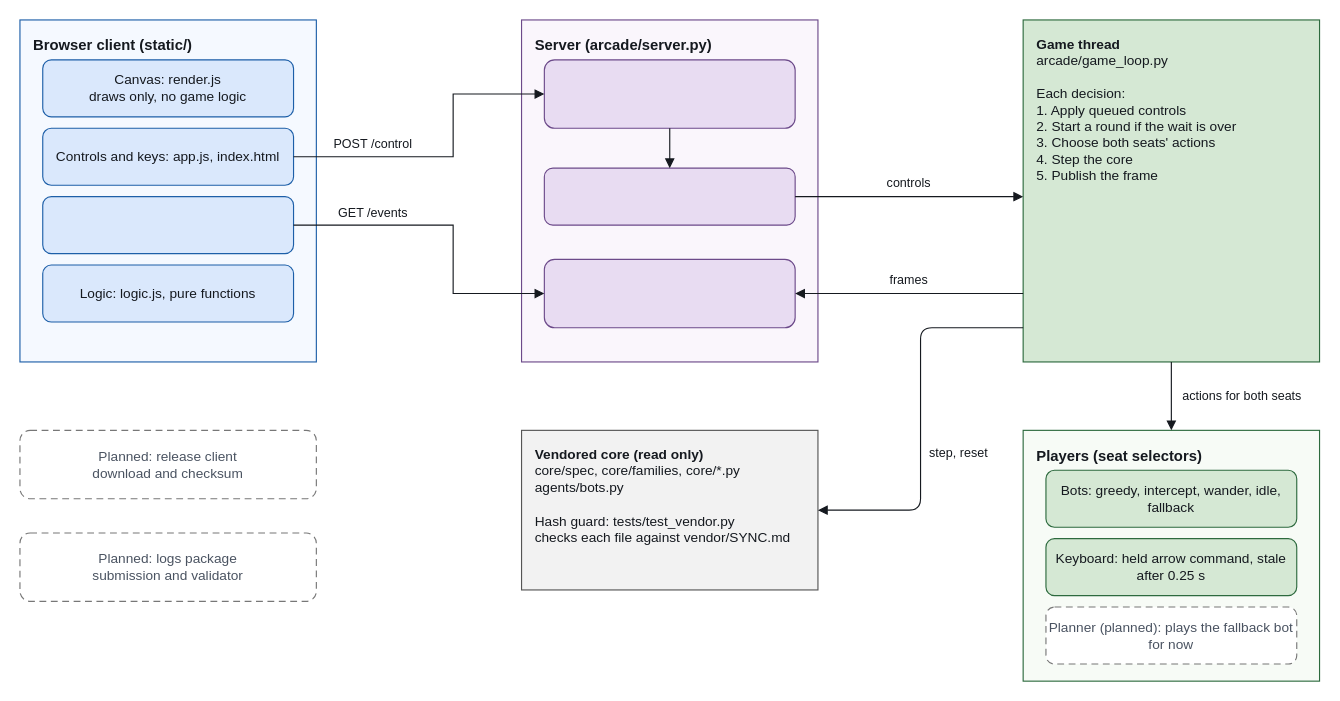
The diagram is 1340 pixels wide and 701 high, and some of its shapes have lost their labels. The centre of each missing label's shape, as x and y in pixels:
Control queue: parse_control, then submit: (x=669, y=196)
EventSource: receives frames: (x=168, y=225)
HTTP handlers GET /, /healthz, /events POST /control: (x=669, y=93)
SSE stream: one queue per viewer: (x=669, y=293)
